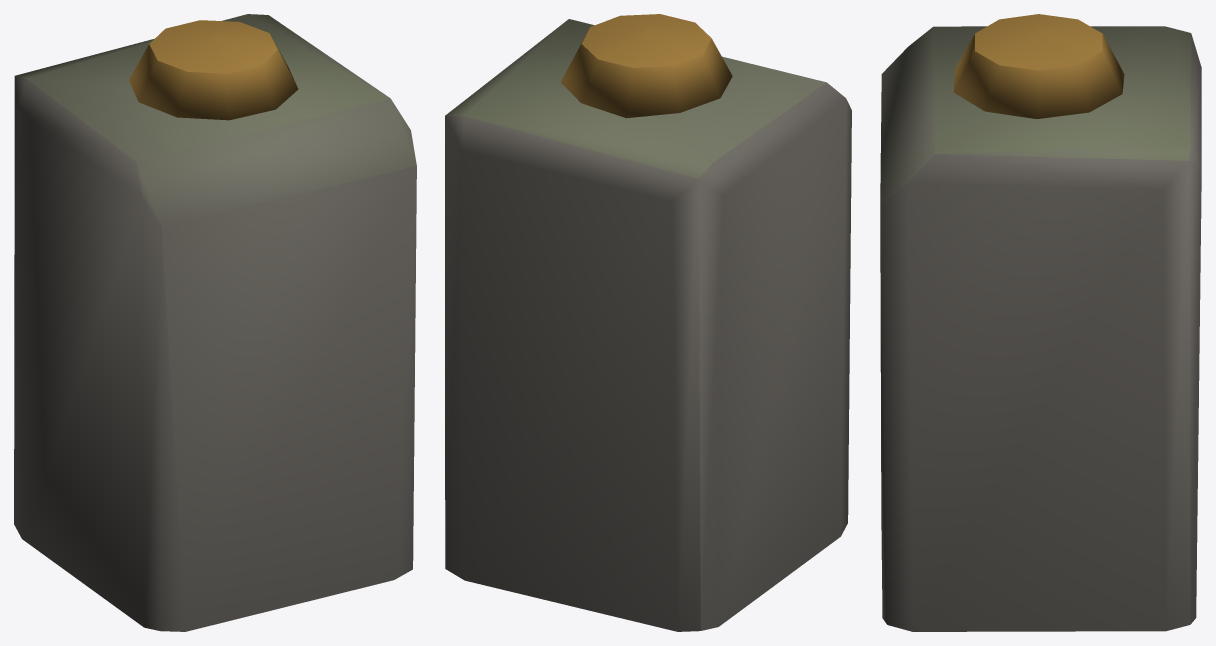
File: ruins-pc-corner-low.glb
3 renders of one model, left to right at view 1: azimuth 30°, elevation 25°; view 2: azimuth 150°, elevation 25°; view 3: azimuth 270°, elevation 25°, orthographic. The views are drawn at different scales.
Parts seen in each view (by area): view 1: 0_ruins_pc_corner; view 2: 0_ruins_pc_corner; view 3: 0_ruins_pc_corner.
Boxes of the visible parts, box(x1,y1,x2,y2) form: 0_ruins_pc_corner: box(14, 14, 416, 631); 0_ruins_pc_corner: box(445, 14, 851, 631); 0_ruins_pc_corner: box(880, 14, 1201, 631).
Bounding box in the file's own units: 0.17 × 0.308 × 0.1677.
